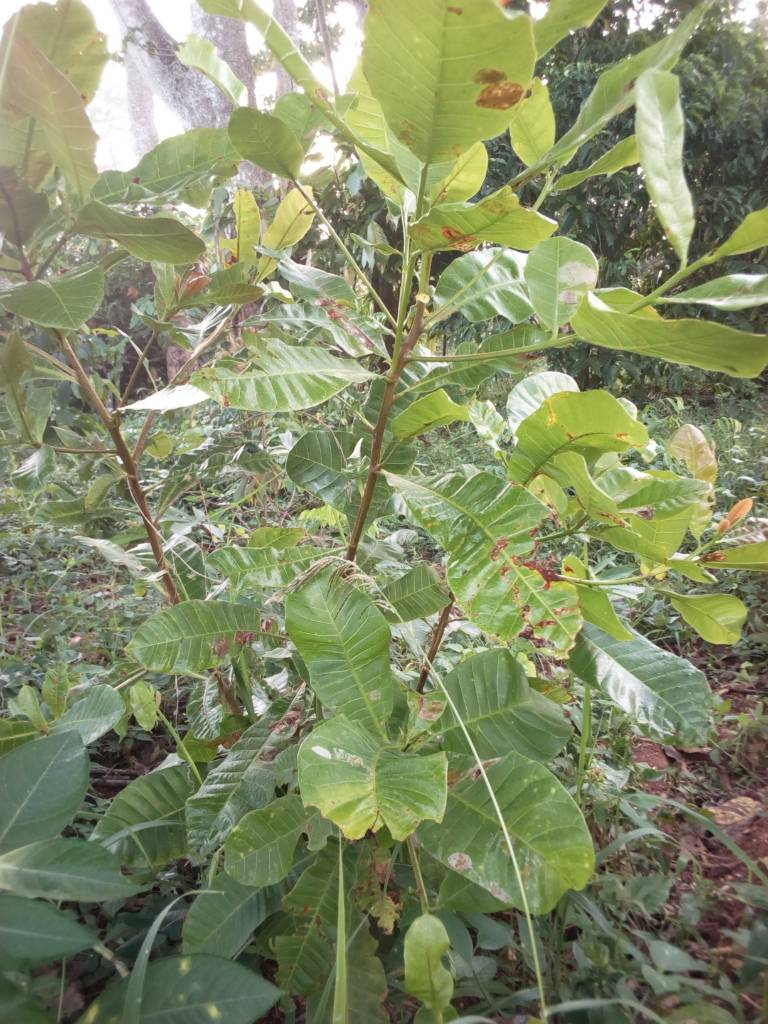Dysdercus wolkerii: (341, 1, 544, 177)
